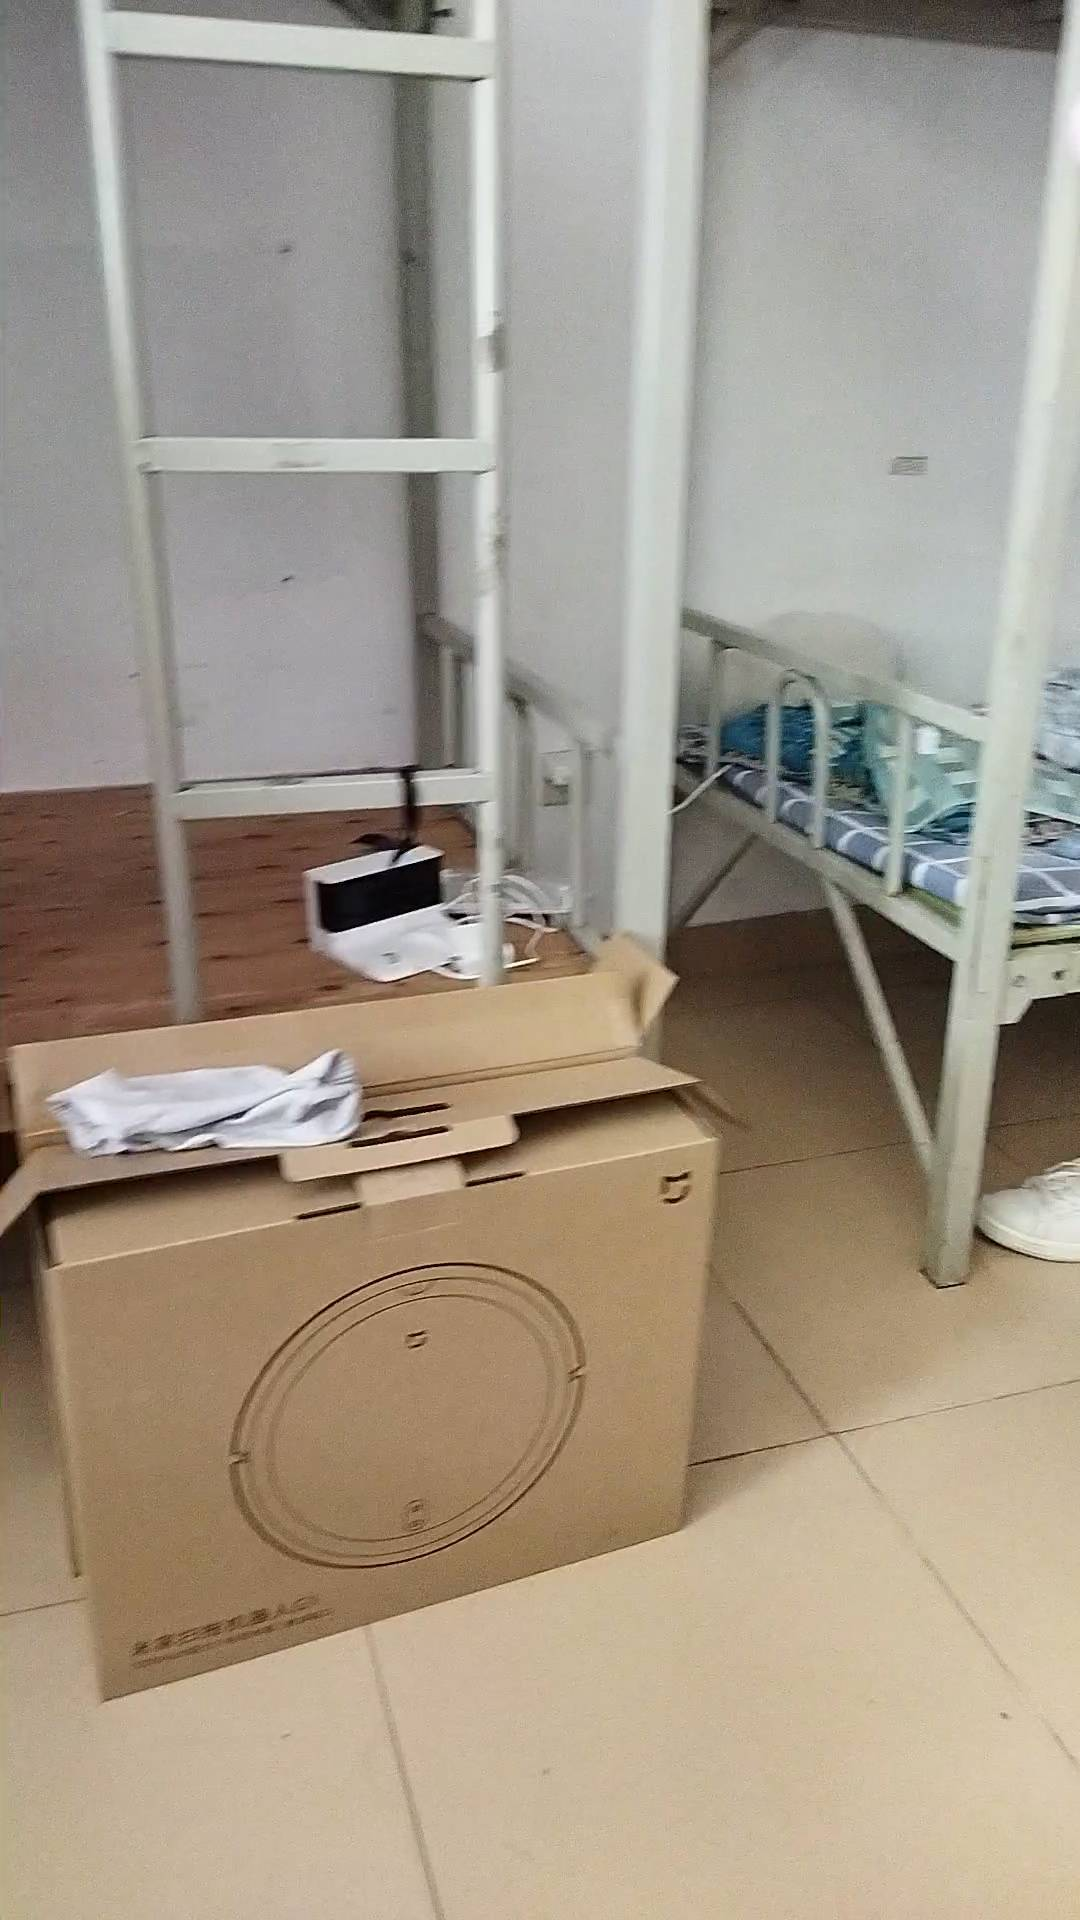recharge seat: (301, 843, 468, 984)
